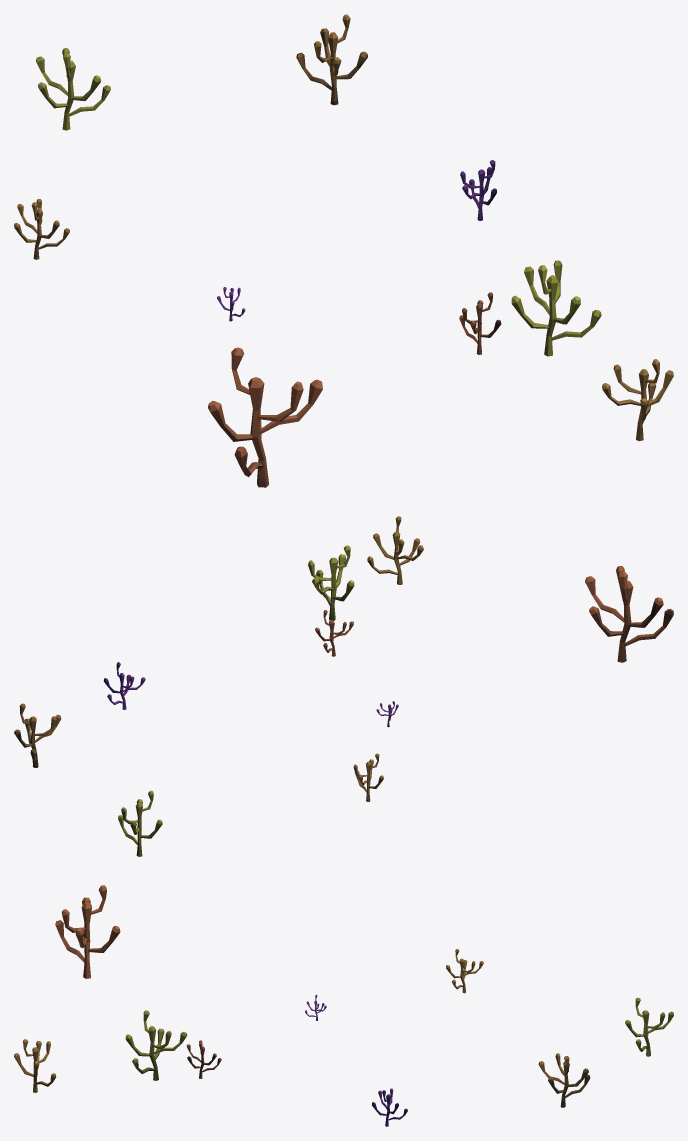
The model's file is Plant_03.FBX.
The picture shows the model from 3 angles, top to bottom: view 1: azimuth 30°, elevation 25°; view 2: azimuth 150°, elevation 25°; view 3: azimuth 270°, elevation 25°; orthographic projection. The views are drawn at different scales.
Visible parts, largest first — view 1: Plant_03; view 2: Plant_03; view 3: Plant_03.
Boxes of the visible parts, x1,y1,x2,y2 form: Plant_03: (14, 14, 673, 487); Plant_03: (14, 516, 673, 856); Plant_03: (14, 885, 673, 1126).
Bounding box in the file's own units: 14.43 × 3.71 × 23.98.
